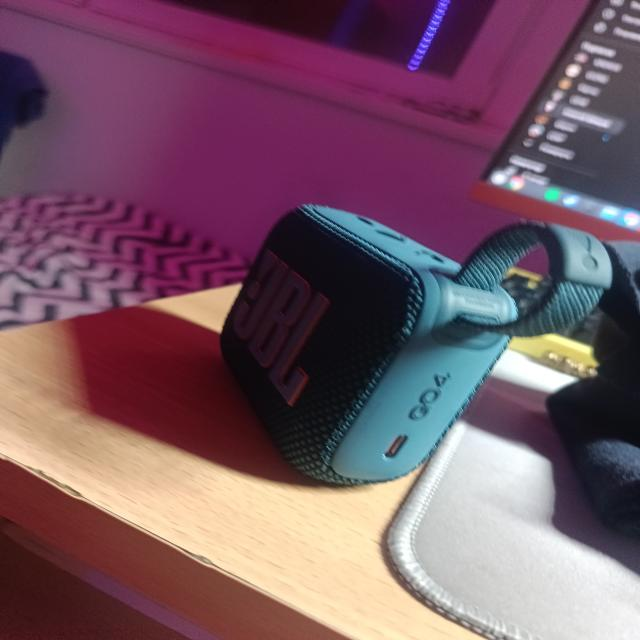column JBL: (220, 178, 628, 493)
